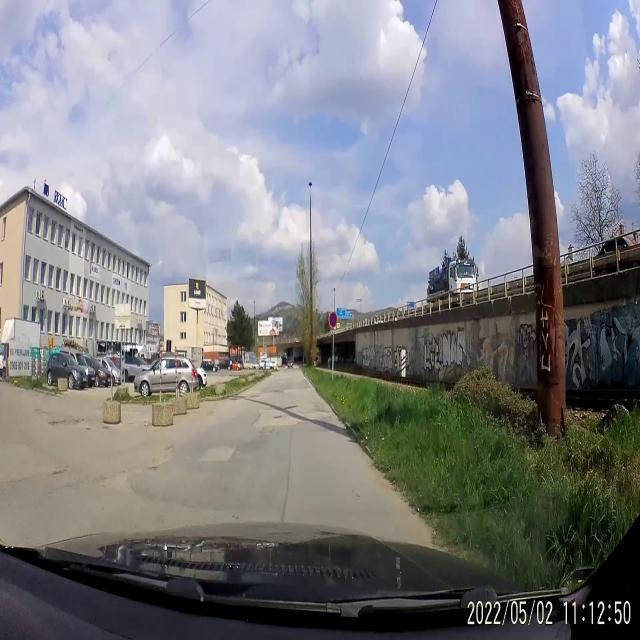Pothole: (145, 461, 161, 481), (162, 442, 177, 452), (268, 388, 284, 396), (248, 390, 260, 400), (272, 412, 284, 422)
